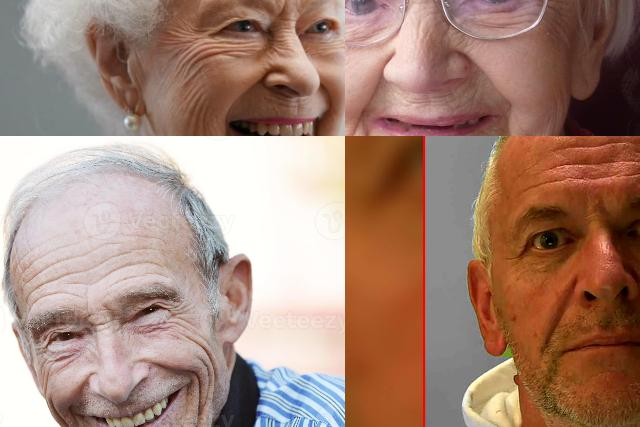bunny_line: (411, 16, 427, 44)
crows_feet: (178, 26, 216, 60), (168, 300, 192, 331), (31, 338, 50, 366), (511, 242, 534, 262)
forehead: (543, 153, 640, 184), (558, 136, 635, 159), (94, 242, 134, 282), (22, 258, 54, 304), (58, 251, 82, 298), (140, 254, 166, 278), (518, 178, 540, 198)
frown_line: (90, 311, 112, 335), (278, 0, 298, 26)
gummy_smile: (464, 49, 514, 101), (360, 57, 384, 110), (230, 70, 260, 108), (542, 298, 562, 342), (148, 354, 182, 376), (316, 80, 336, 112)
masseter: (175, 78, 209, 124), (190, 336, 220, 380), (189, 385, 208, 427), (47, 399, 74, 427), (550, 90, 566, 130)
sad_smile: (348, 118, 376, 136), (500, 127, 523, 136), (309, 123, 320, 136)
smoker_lines: (397, 92, 459, 114), (272, 93, 308, 111)
